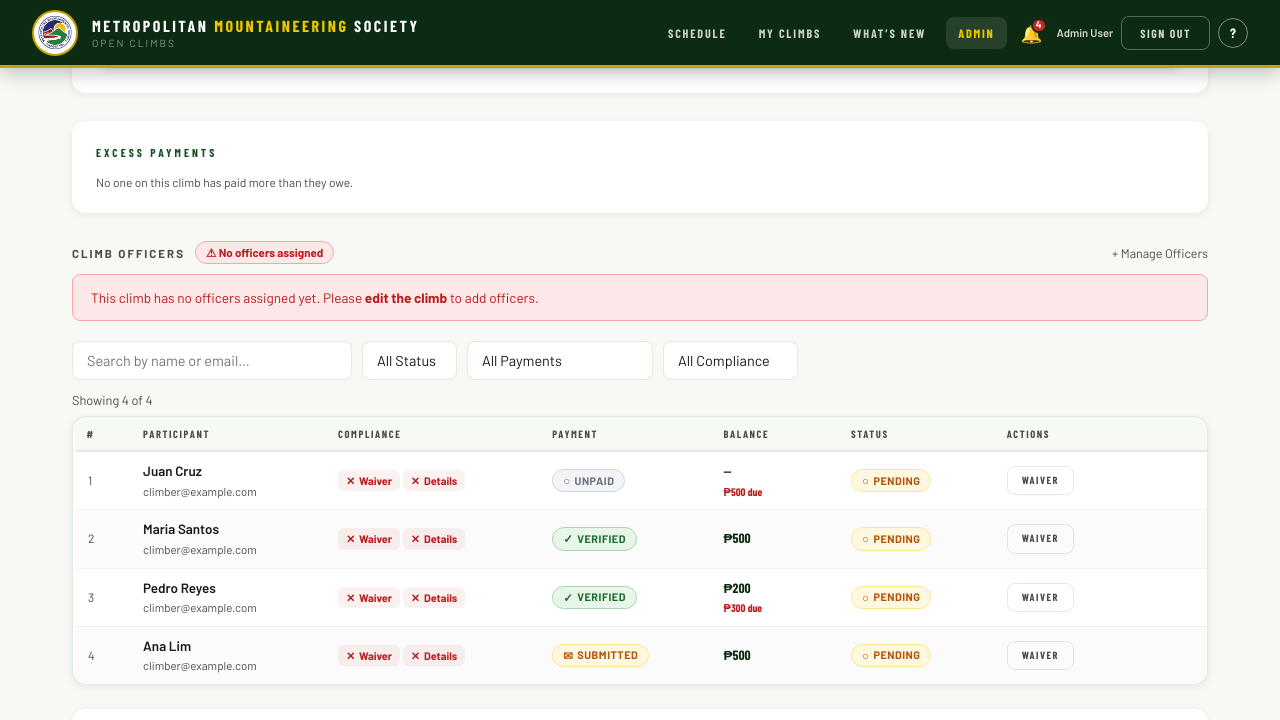
Scenario: Admin ClimbDetail › filters to only registrants with an outstanding balance
The image size is (1280, 720).
(page scrolled)
Expected: the text "Maria Santos" is shown, [143,520,219,540]
Select "Has Outstanding Balance" in the 2nd dropdown showing "All Payments" at (560, 361), box [467,341,653,380]
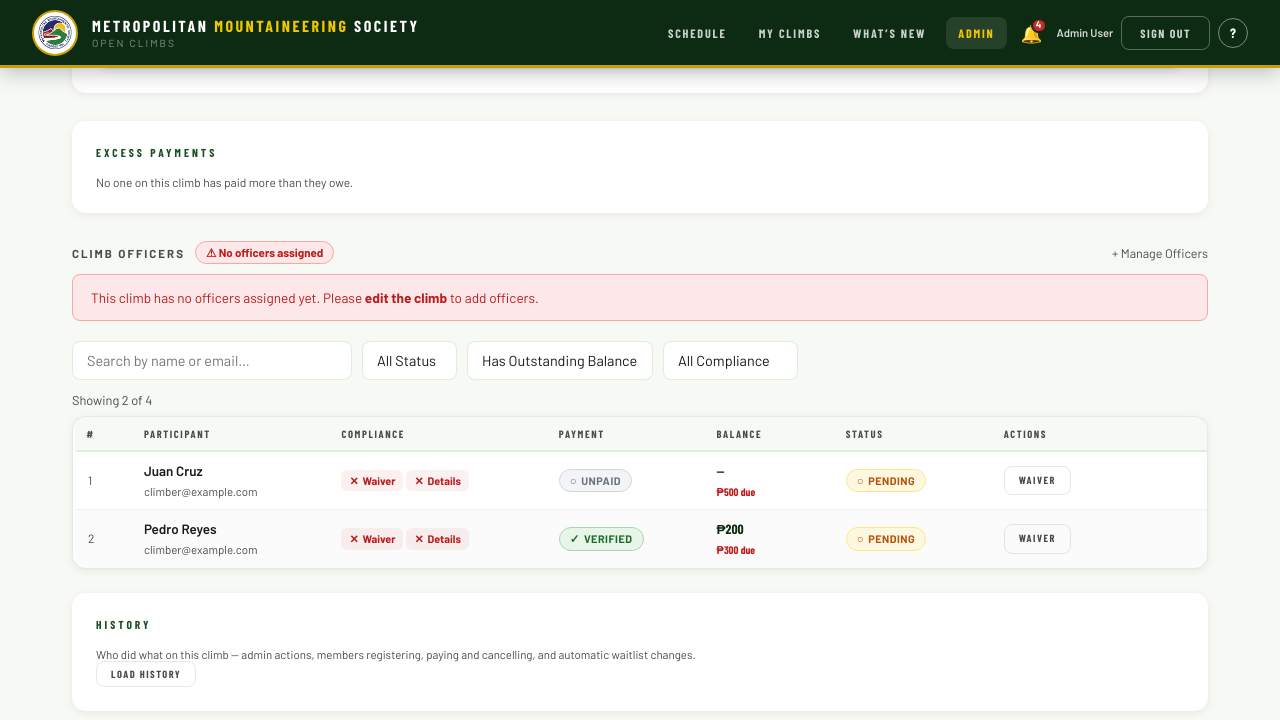
Expected: the text "Juan Cruz" is shown, [144,462,203,482]
Result: the text "Pedro Reyes" is shown at [144,520,217,540]
